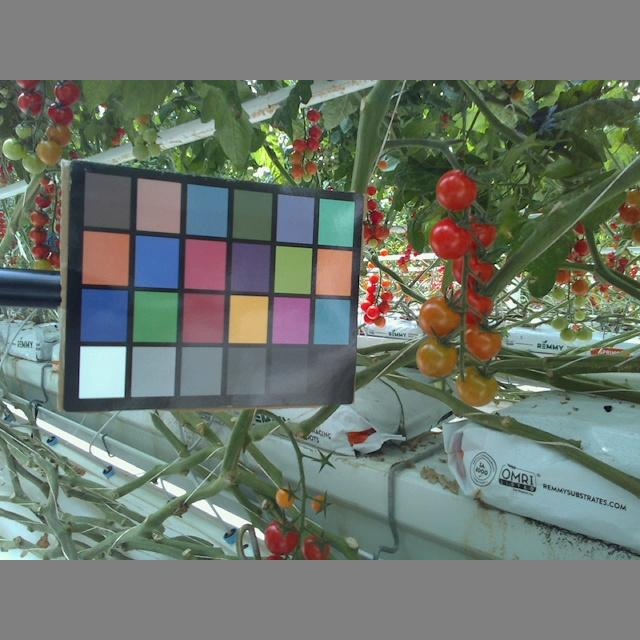green: (2, 136, 28, 161), (15, 120, 37, 137)
pink: (418, 295, 466, 337), (458, 319, 504, 361), (415, 334, 458, 378), (454, 366, 500, 406), (35, 136, 63, 166), (273, 485, 295, 509), (311, 492, 327, 512)
red: (449, 283, 496, 326), (427, 217, 472, 261), (435, 168, 478, 213), (451, 247, 496, 287), (263, 519, 300, 557), (295, 530, 332, 560), (15, 86, 46, 115), (52, 82, 81, 104), (46, 104, 74, 126)
